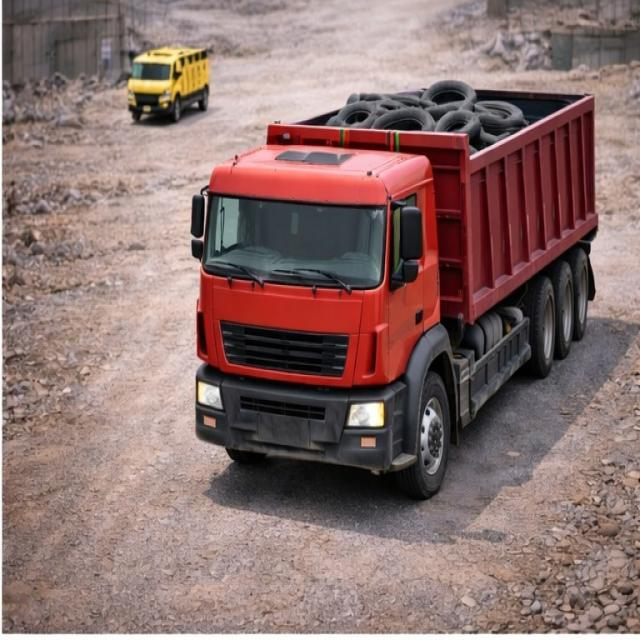trailer: (266, 76, 592, 150)
truck: (182, 39, 616, 491)
